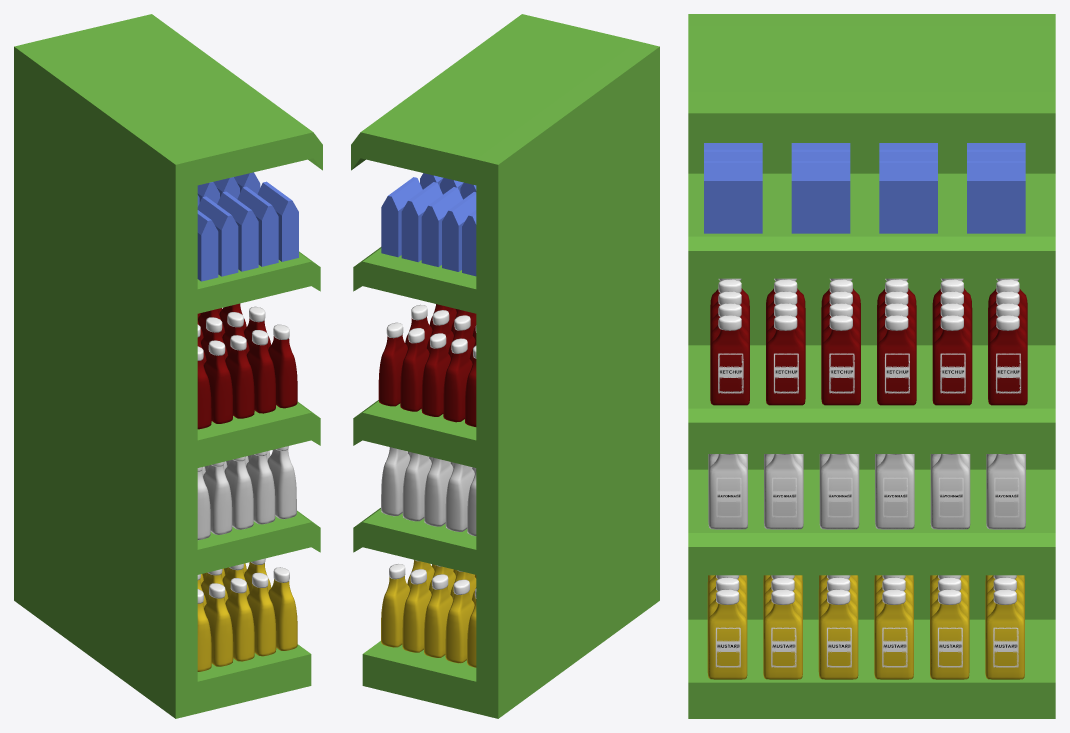
Rendered from Supermarket_Run_Shelf.fbx.
3 views of the same model, side by side, from view 1: azimuth 30°, elevation 25°; view 2: azimuth 150°, elevation 25°; view 3: azimuth 270°, elevation 25° (orthographic). The views are drawn at different scales.
Parts seen in each view (by area): view 1: Supermarket_Run_Shelf, Supermarket_Run_Ketchup, Supermarket_Run_Mustard, Supermarket_Run_Box, Supermarket_Run_Mayonnaise; view 2: Supermarket_Run_Shelf, Supermarket_Run_Ketchup, Supermarket_Run_Mustard, Supermarket_Run_Box, Supermarket_Run_Mayonnaise; view 3: Supermarket_Run_Shelf, Supermarket_Run_Ketchup, Supermarket_Run_Mustard, Supermarket_Run_Box, Supermarket_Run_Mayonnaise.
Part boxes in pixels (<box>): Supermarket_Run_Shelf: <box>14,14,322,718</box>; Supermarket_Run_Ketchup: <box>197,303,297,429</box>; Supermarket_Run_Mustard: <box>197,558,297,671</box>; Supermarket_Run_Box: <box>197,172,298,281</box>; Supermarket_Run_Mayonnaise: <box>197,446,296,540</box>; Supermarket_Run_Shelf: <box>351,14,659,718</box>; Supermarket_Run_Ketchup: <box>378,304,476,426</box>; Supermarket_Run_Mustard: <box>381,560,476,667</box>; Supermarket_Run_Box: <box>381,173,476,276</box>; Supermarket_Run_Mayonnaise: <box>381,447,476,536</box>; Supermarket_Run_Shelf: <box>688,14,1055,718</box>; Supermarket_Run_Ketchup: <box>710,278,1027,405</box>; Supermarket_Run_Mustard: <box>707,575,1024,679</box>; Supermarket_Run_Box: <box>704,143,1025,233</box>; Supermarket_Run_Mayonnaise: <box>708,454,1025,529</box>.
Size of the model in its own units: 89.97 by 324 by 171.
